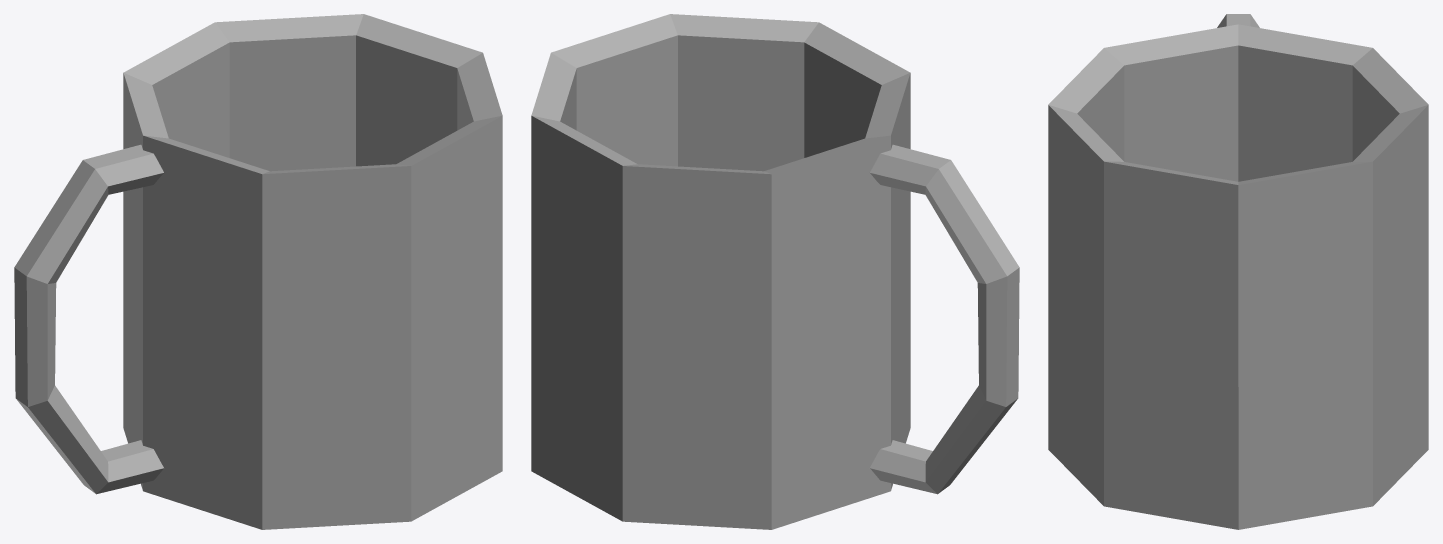
File: cup.fbx
3 renders of one model, left to right at view 1: azimuth 30°, elevation 25°; view 2: azimuth 150°, elevation 25°; view 3: azimuth 270°, elevation 25°, orthographic. The views are drawn at different scales.
Visible parts, largest first — view 1: Cylinder; view 2: Cylinder; view 3: Cylinder.
Part boxes in pixels (<box>): Cylinder: <box>14,14,502,529</box>; Cylinder: <box>531,14,1019,529</box>; Cylinder: <box>1048,14,1428,529</box>.
Size of the model in its own units: 16.81 by 12.36 by 12.36.
